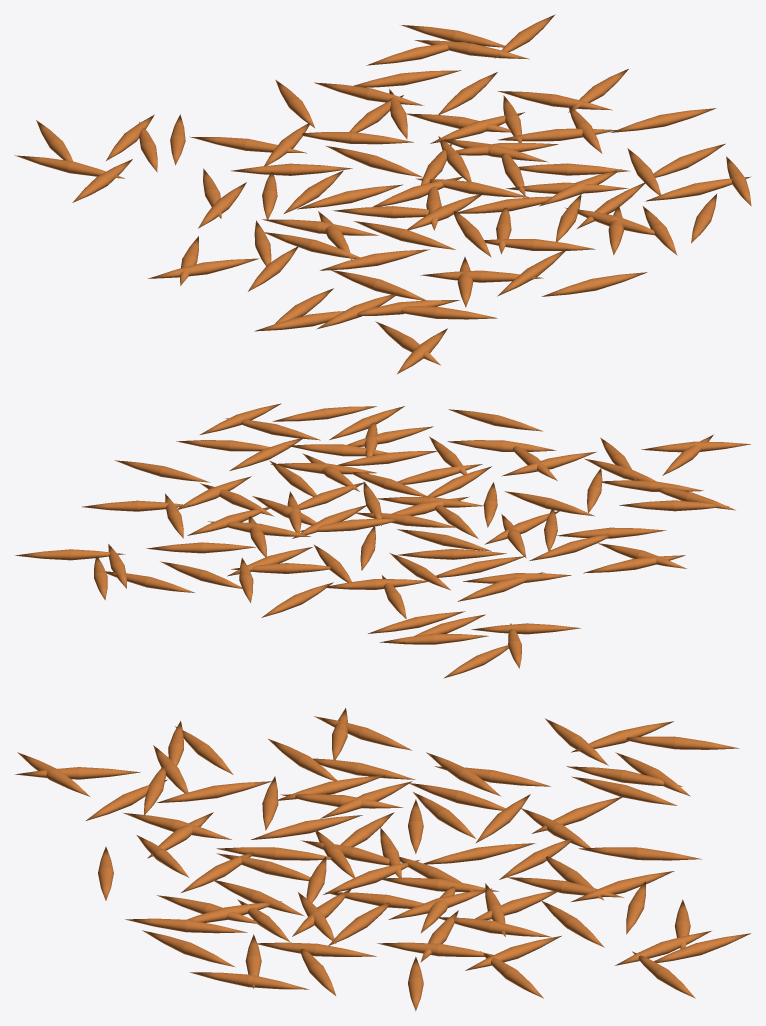
File: PineNeedles.obj
3 renders of one model, top to bottom at view 1: azimuth 30°, elevation 25°; view 2: azimuth 150°, elevation 25°; view 3: azimuth 270°, elevation 25°, orthographic. The views are drawn at different scales.
Parts seen in each view (by area): view 1: pCone18, pCone41, pCone20, pCone70, pCone76, pCone57, pCone47, pCone56, pCone43, pCone13, pCone84, pCone69 (+35 smaller); view 2: pCone48, pCone17, pCone63, pCone45, pCone55, pCone78, pCone60, pCone67, pCone33, pCone28, pCone58, pCone75 (+46 smaller); view 3: pCone46, pCone22, pCone42, pCone65, pCone7, pCone16, pCone83, pCone39, pCone8, pCone38, pCone27, pCone61 (+63 smaller).
Boxes of the visible parts, left/top/right/bottom form: pCone18: left=231, top=163, right=352, bottom=175; pCone41: left=519, top=163, right=629, bottom=175; pCone20: left=302, top=132, right=413, bottom=144; pCone70: left=353, top=70, right=461, bottom=87; pCone76: left=320, top=249, right=429, bottom=270; pCone57: left=497, top=91, right=612, bottom=110; pCone47: left=484, top=239, right=595, bottom=250; pCone56: left=541, top=272, right=647, bottom=296; pCone43: left=610, top=108, right=715, bottom=132; pCone13: left=297, top=184, right=402, bottom=209; pCone84: left=401, top=306, right=497, bottom=319; pCone69: left=414, top=40, right=529, bottom=59; pCone48: left=146, top=542, right=255, bottom=553; pCone17: left=397, top=549, right=506, bottom=559; pCone63: left=379, top=633, right=488, bottom=644; pCone45: left=272, top=406, right=376, bottom=421; pCone55: left=447, top=440, right=556, bottom=451; pCone78: left=619, top=500, right=728, bottom=511; pCone60: left=471, top=623, right=580, bottom=634; pCone67: left=15, top=549, right=125, bottom=560; pCone33: left=287, top=444, right=387, bottom=456; pCone28: left=338, top=451, right=437, bottom=465; pCone58: left=81, top=500, right=191, bottom=511; pCone75: left=556, top=527, right=666, bottom=538; pCone46: left=578, top=847, right=701, bottom=860; pCone22: left=125, top=918, right=247, bottom=933; pCone42: left=189, top=972, right=309, bottom=989; pCone65: left=626, top=736, right=739, bottom=749; pCone7: left=216, top=847, right=331, bottom=860; pCone16: left=423, top=843, right=535, bottom=864; pCone83: left=157, top=781, right=271, bottom=802; pCone39: left=257, top=942, right=376, bottom=956; pCone8: left=251, top=815, right=362, bottom=839; pCone38: left=377, top=942, right=493, bottom=956; pCone27: left=437, top=917, right=551, bottom=937; pCone61: left=571, top=776, right=677, bottom=805.
Size of the model in its own units: 24.65 by 0.4126 by 25.39.
